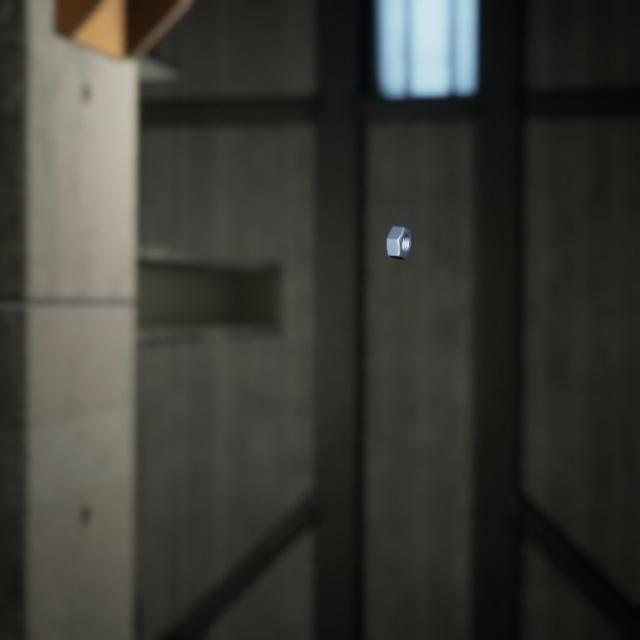bolt: (206, 616, 240, 640)
nut: (381, 206, 416, 249)
